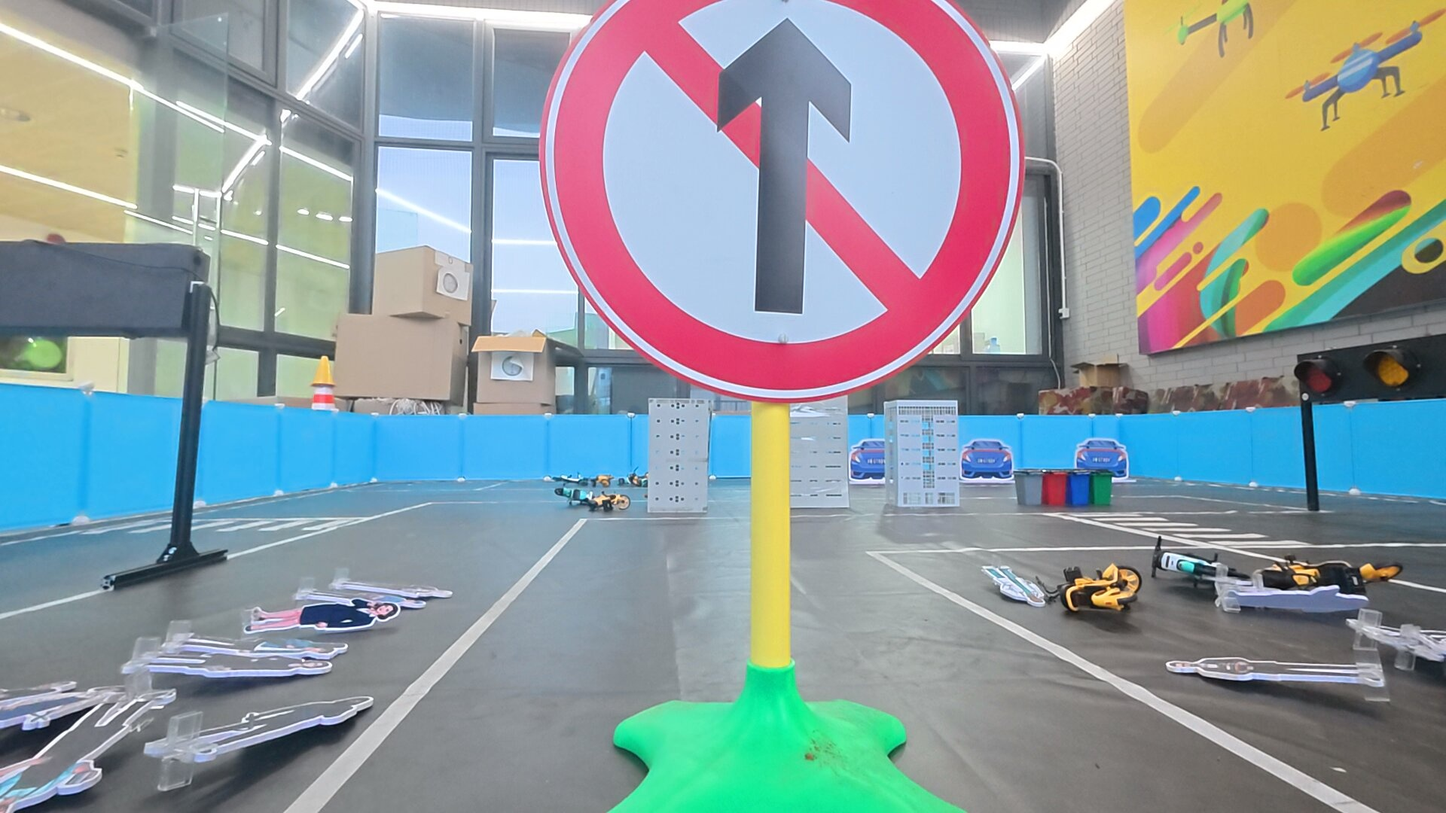obstacle: (538, 0, 1023, 404)
